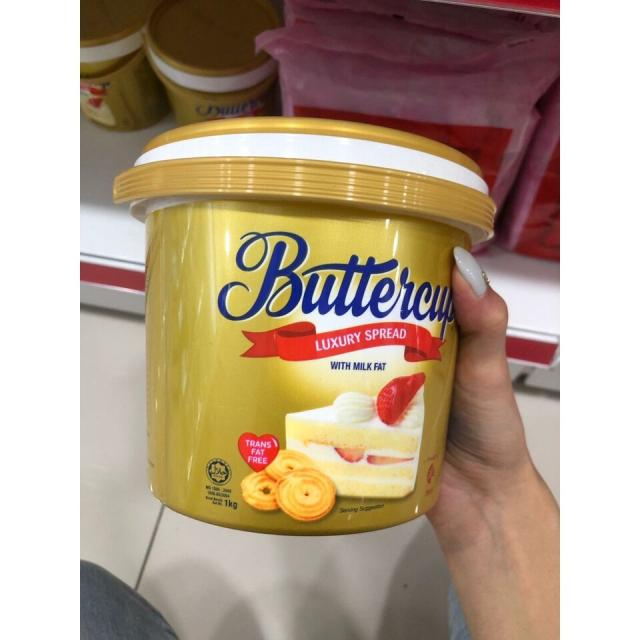plastic: (110, 116, 473, 540)
